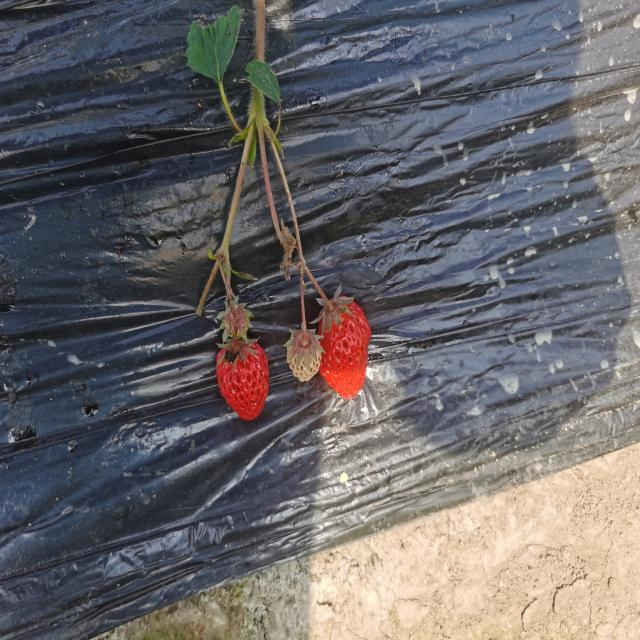stem: (309, 274, 335, 313), (230, 318, 240, 351)
strawberry: (317, 295, 371, 399), (216, 339, 269, 421)
